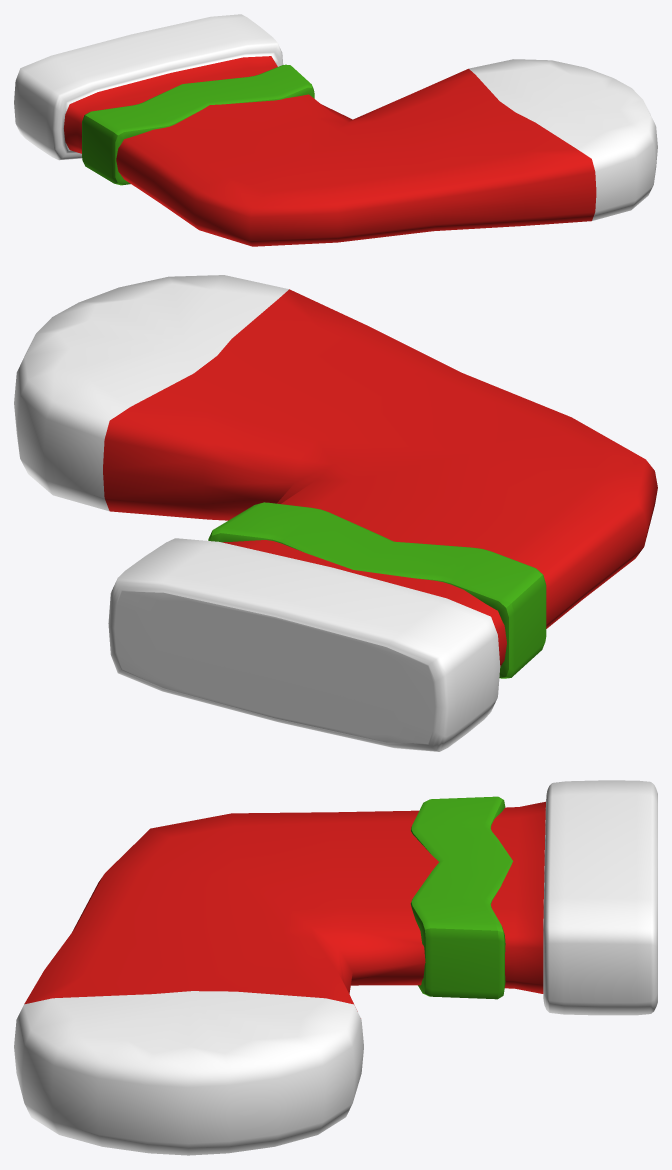
File: Sock.fbx
3 views of the same model, one above another, from view 1: azimuth 30°, elevation 25°; view 2: azimuth 150°, elevation 25°; view 3: azimuth 270°, elevation 25° (orthographic). The views are drawn at different scales.
Visible parts, largest first — view 1: Sock; view 2: Sock; view 3: Sock.
Boxes of the visible parts, <box> form: Sock: <box>14,14,657,246</box>; Sock: <box>14,275,657,751</box>; Sock: <box>14,780,657,1155</box>.
Size of the model in its own units: 61.48 by 10.51 by 56.65.
